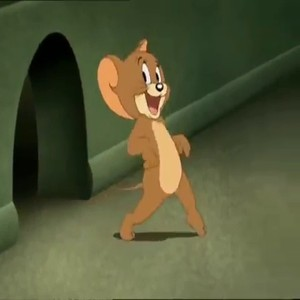Jerry: (94, 37, 209, 237)
